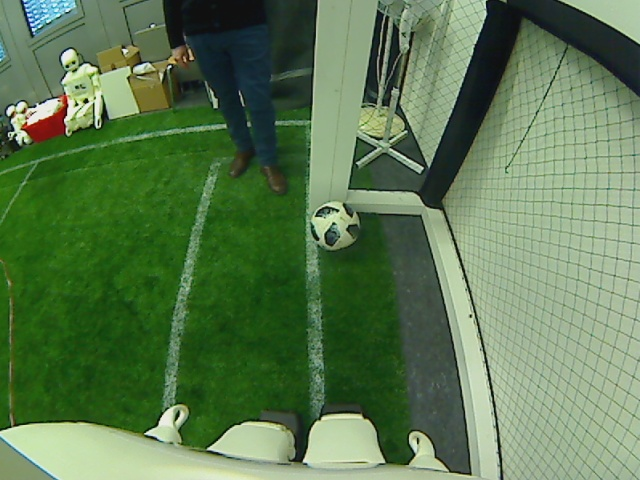ball: (311, 199, 359, 250)
